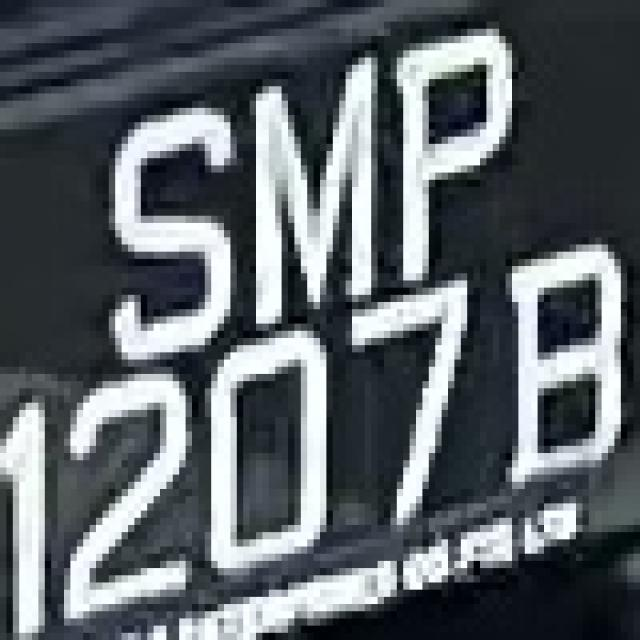0: (192, 338, 333, 568)
2: (51, 360, 186, 626)
7: (314, 266, 486, 518)
B: (499, 237, 627, 496)
M: (230, 79, 390, 331)
P: (384, 29, 538, 237)
S: (77, 115, 262, 374)
